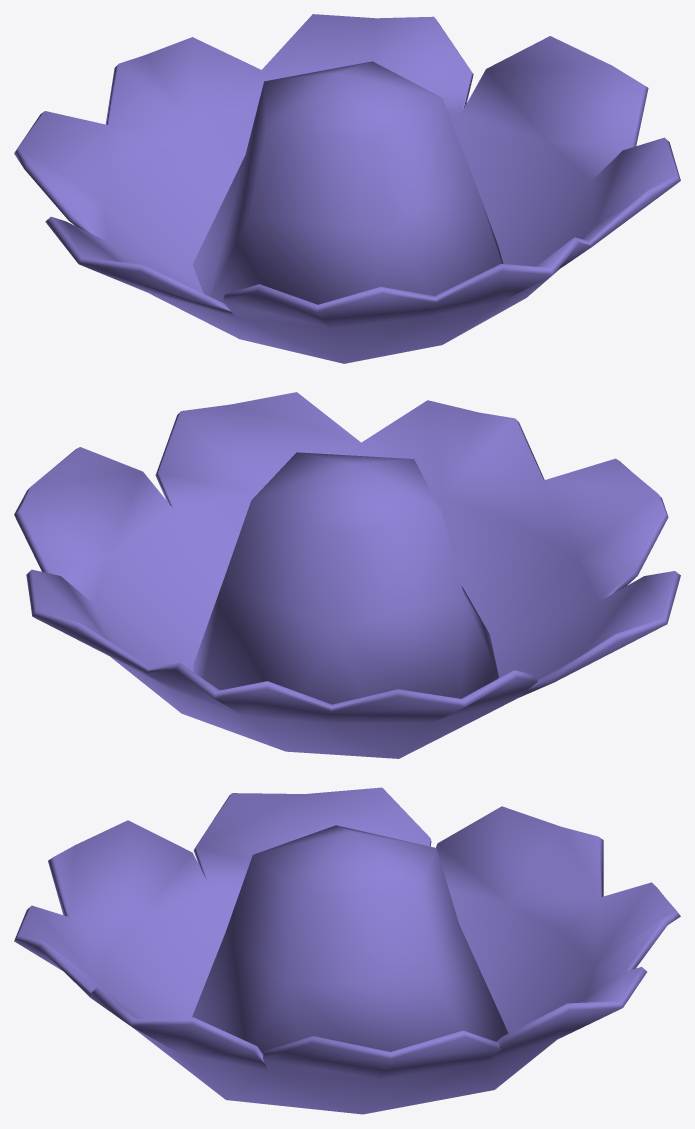
File: Cactus_Leafy_05.fbx
The picture shows the model from 3 angles, top to bottom: view 1: azimuth 30°, elevation 25°; view 2: azimuth 150°, elevation 25°; view 3: azimuth 270°, elevation 25°; orthographic projection. The views are drawn at different scales.
Parts seen in each view (by area): view 1: Cactus_Leafy_05; view 2: Cactus_Leafy_05; view 3: Cactus_Leafy_05.
Part boxes in pixels (x1,y1,x2,y2): Cactus_Leafy_05: (14,14,680,363); Cactus_Leafy_05: (14,392,680,758); Cactus_Leafy_05: (14,787,680,1114).
Bounding box in the file's own units: 41.99 × 17.97 × 41.96.
